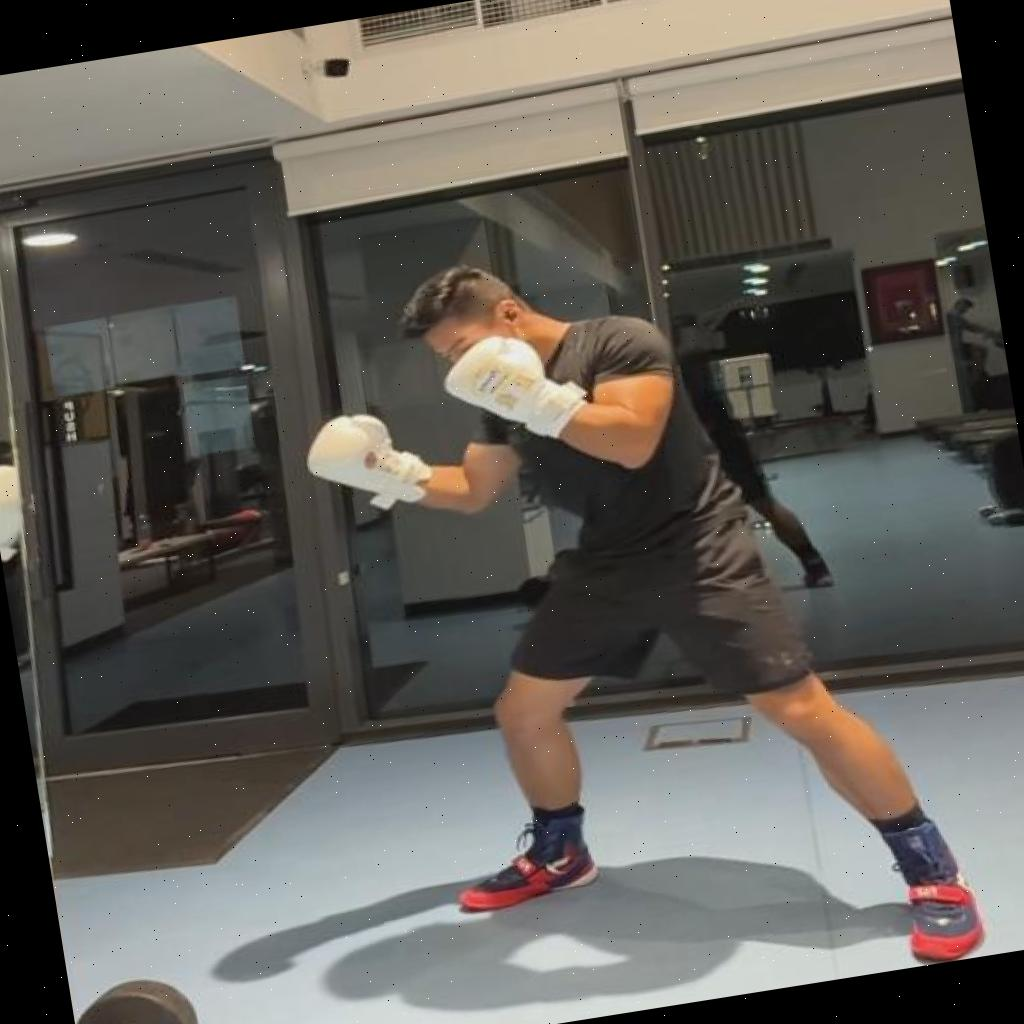uppercut: (276, 191, 994, 1024)
